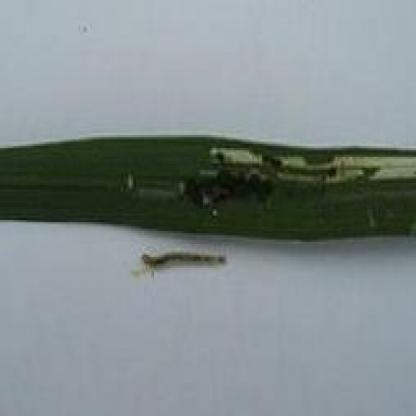leaf-folder: (126, 224, 234, 292)
